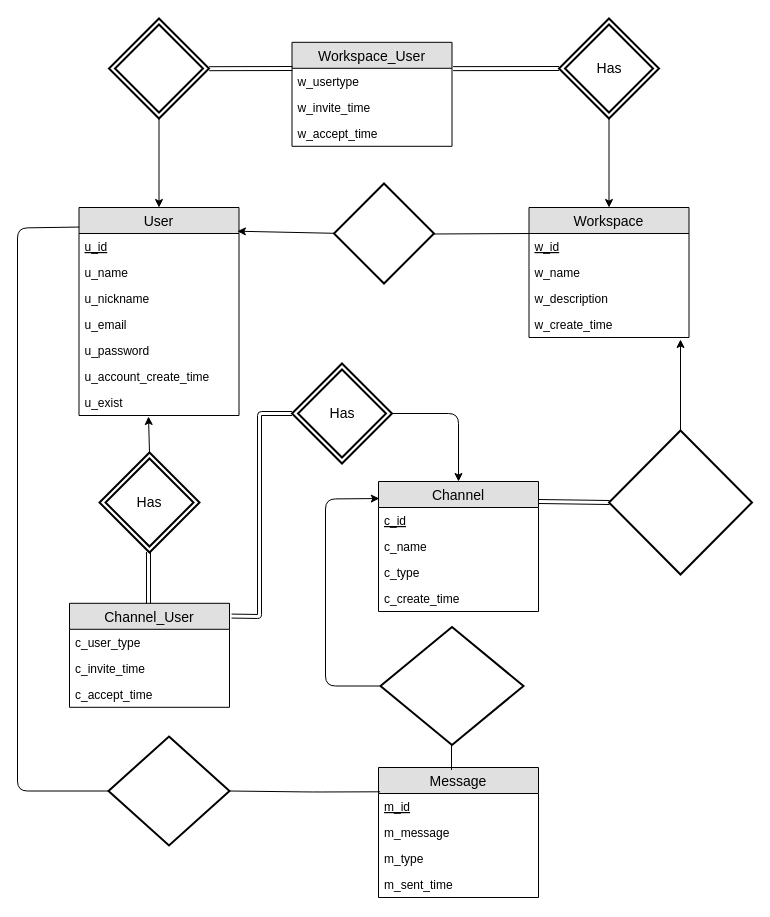
This 770x917 diagram has some shape labels left out. Here are the shapes that lost their labels. From the top down, the centre of each, then its label:
At (159,68): "belongs".
At (383,233): "Creates".
At (680,502): "Channel_Workspace".
At (451,686): "Message_Channel".
At (168,790): "User_Message".
